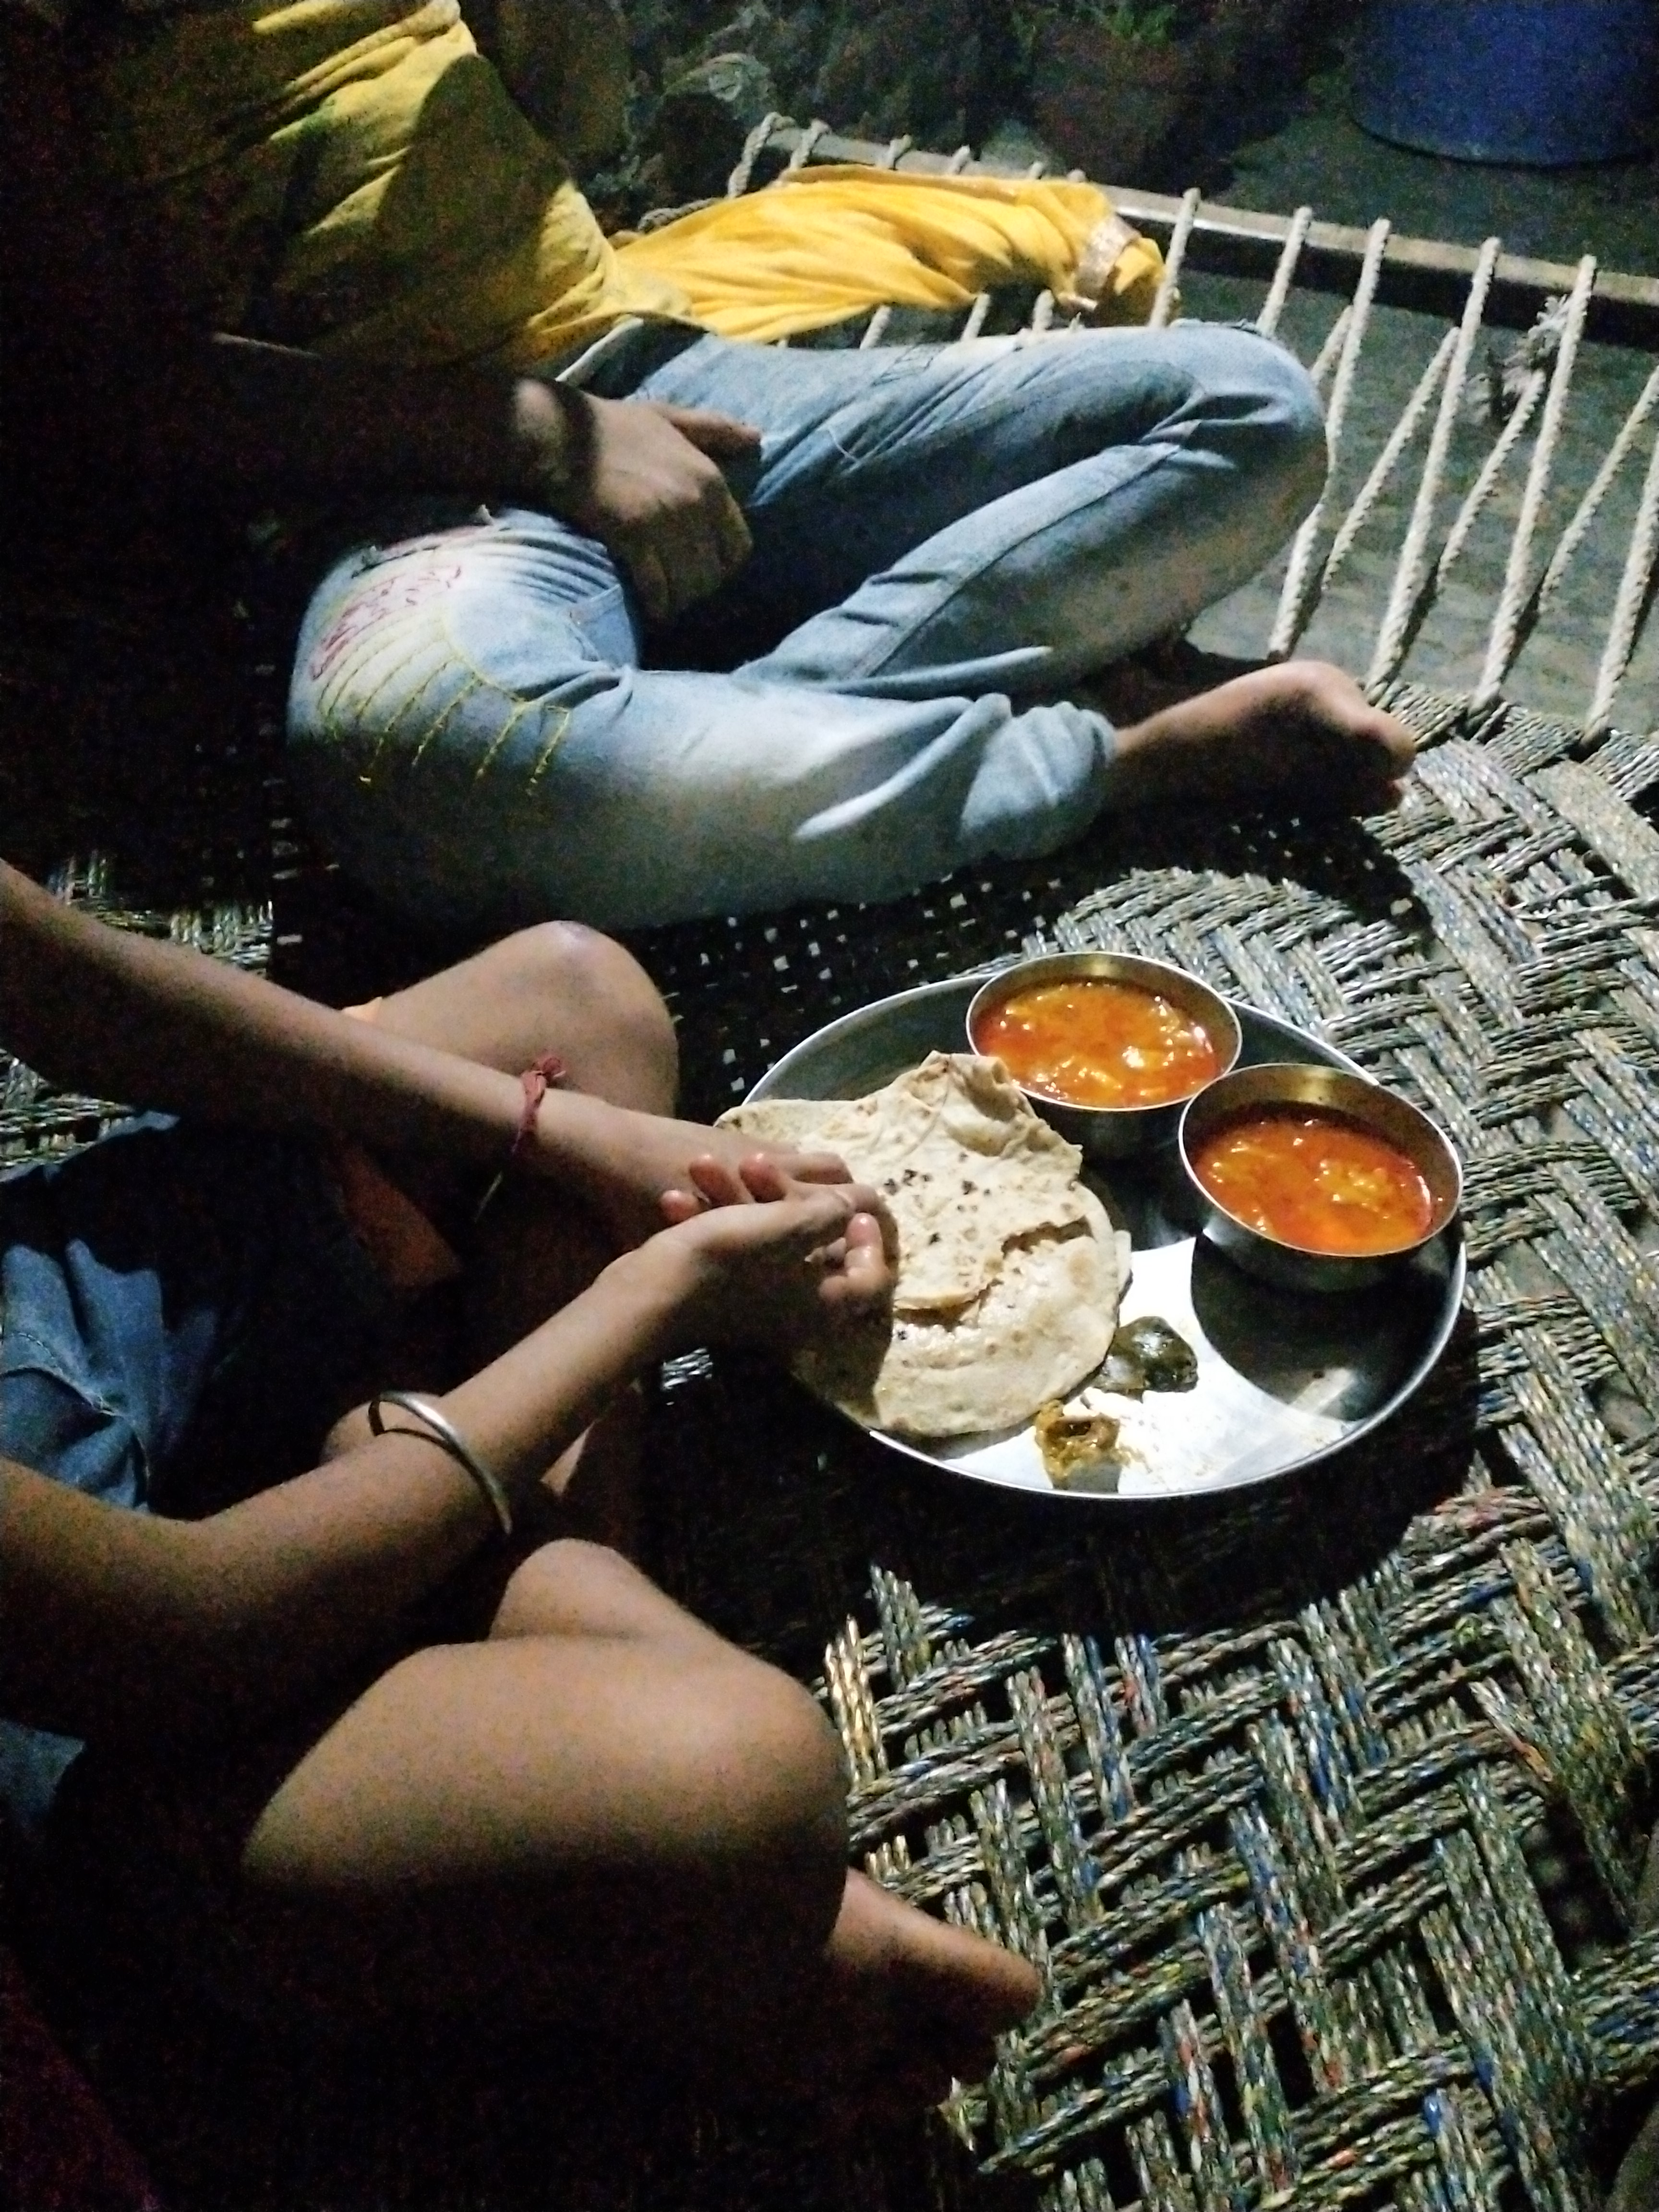food: (701, 941, 1476, 1510)
